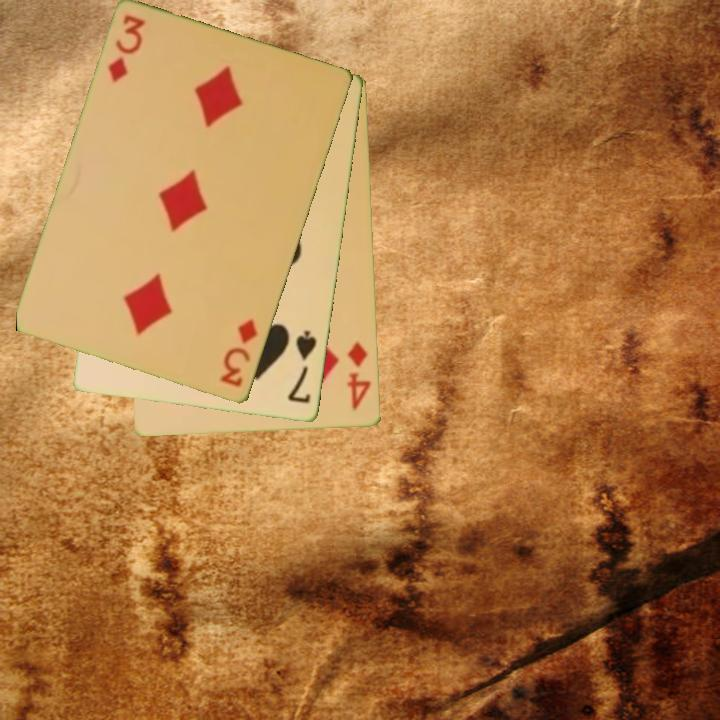3d: (217, 316, 262, 391), (105, 12, 149, 87)
4d: (344, 339, 374, 413)
7s: (285, 327, 320, 407)
